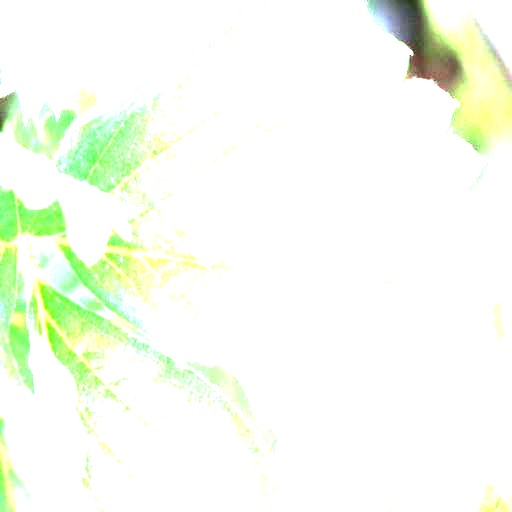Powdery Mildew Leaf: (26, 0, 510, 488), (0, 131, 146, 268)
